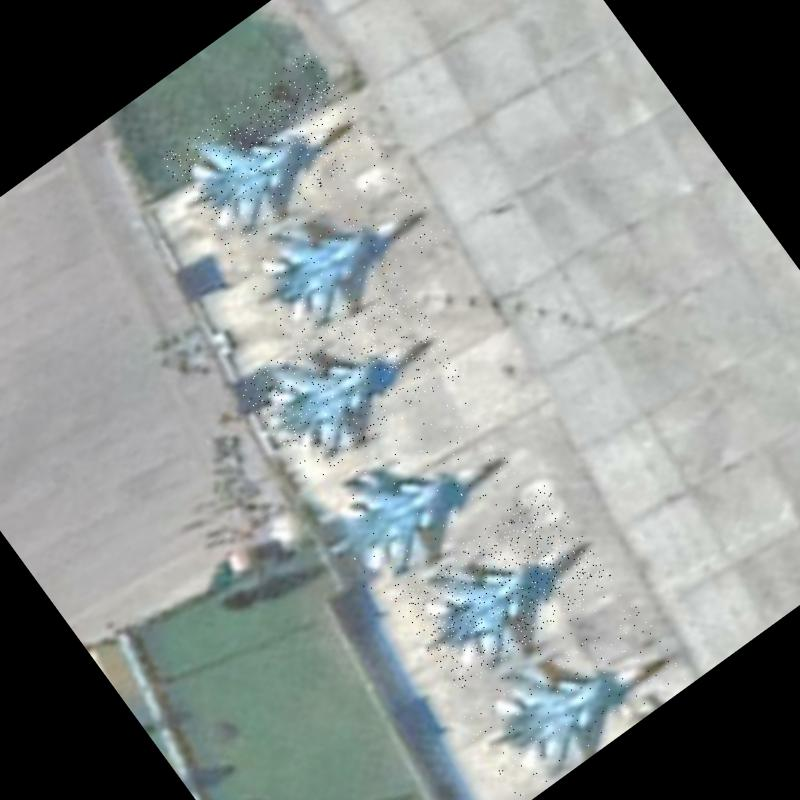A19: (446, 579, 690, 800), (300, 389, 534, 608), (234, 268, 468, 486), (388, 483, 615, 694), (158, 46, 381, 254), (229, 149, 449, 350)
